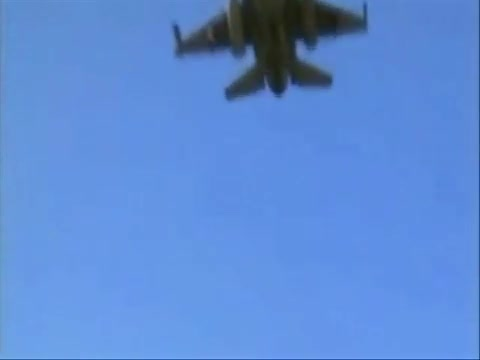aeroplane: (172, 1, 369, 103)
